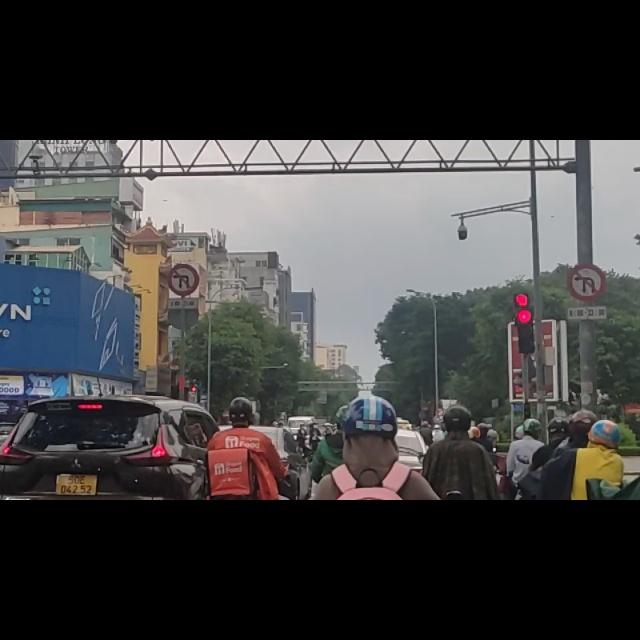bien_cam: (566, 224, 600, 289), (167, 224, 197, 281)
